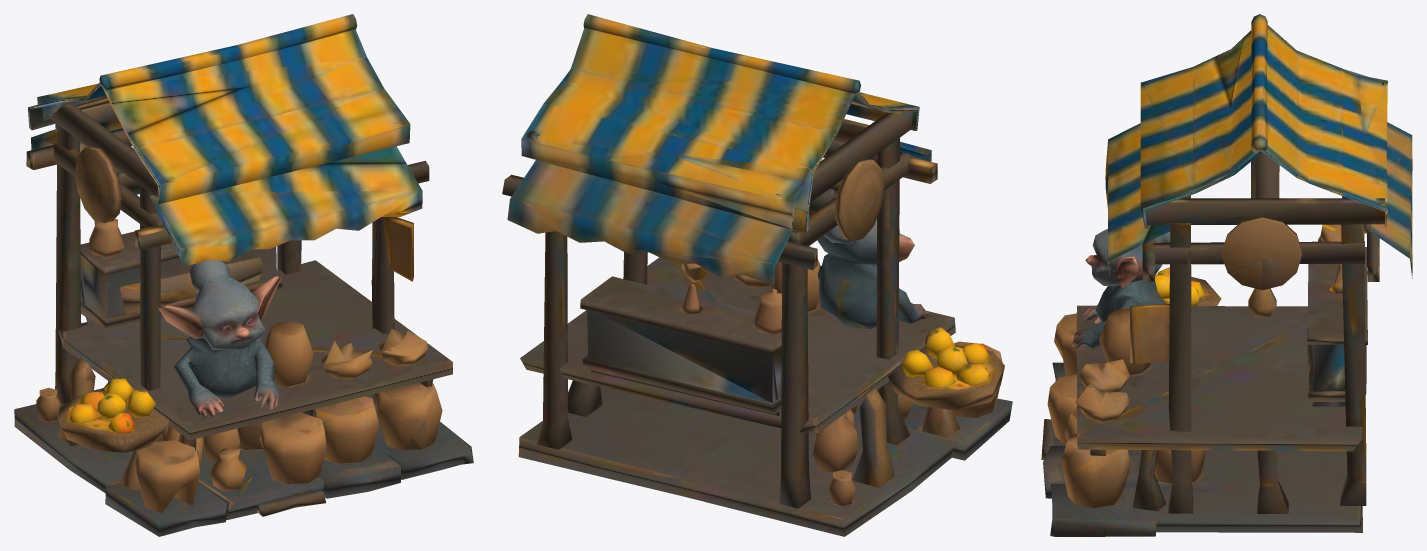
File: market_stall.glb
3 renders of one model, left to right at view 1: azimuth 30°, elevation 25°; view 2: azimuth 150°, elevation 25°; view 3: azimuth 270°, elevation 25°, orthographic. The views are drawn at different scales.
Size of the model in its own units: 0.9365 by 0.9492 by 0.8208.
1 material, 1 textured.
